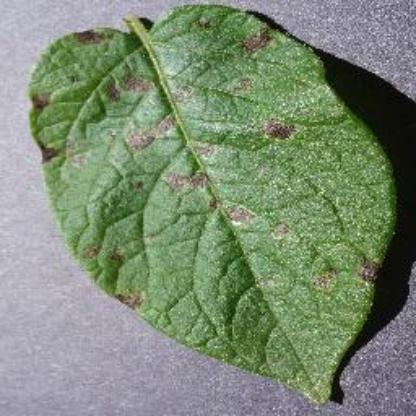Early-Blight: (26, 2, 404, 404)
